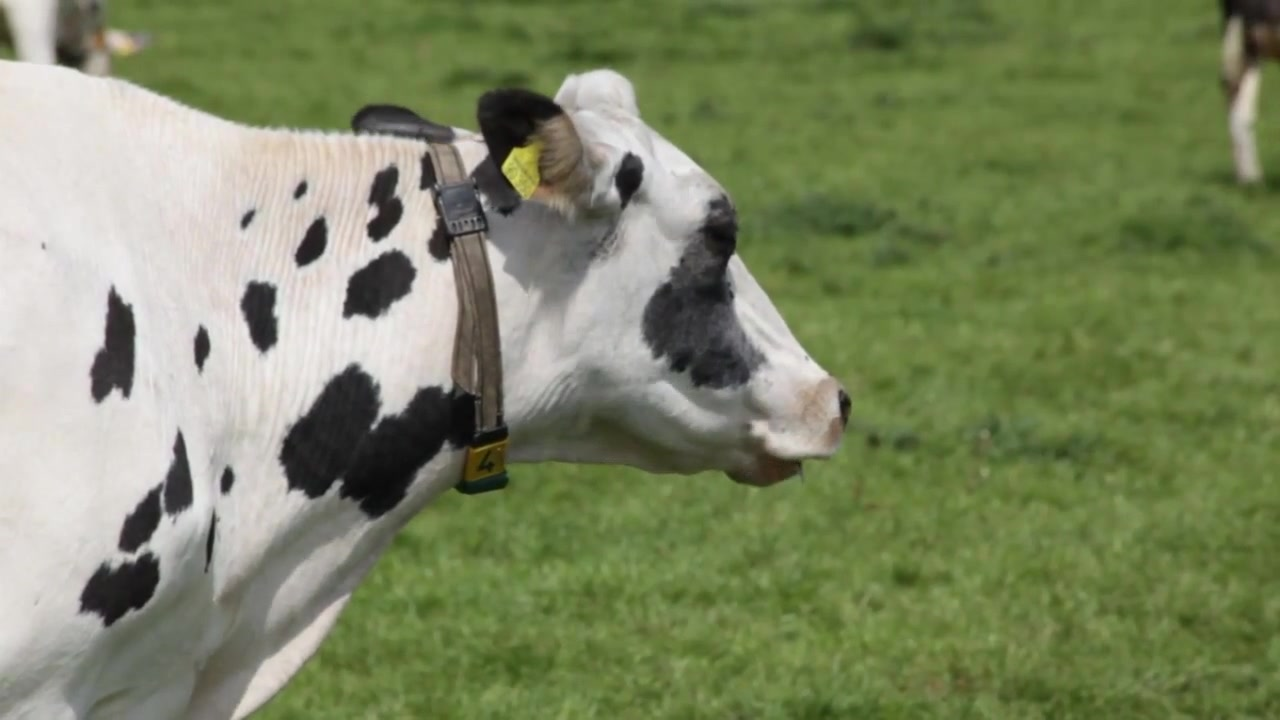cow: (1, 50, 859, 720)
